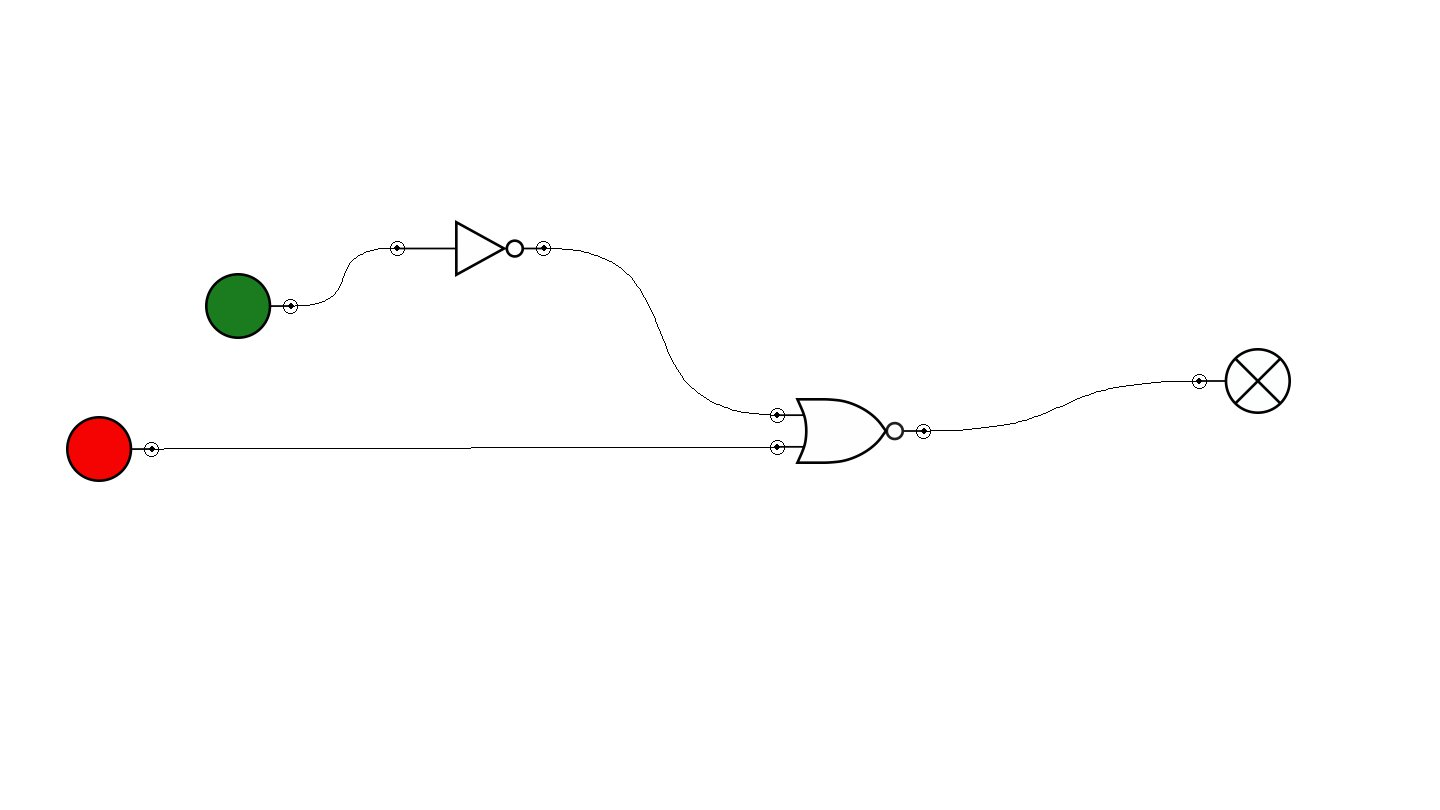bulb: (1192, 348, 1291, 414)
nor: (770, 398, 931, 464)
not: (390, 220, 551, 277)
switch_False: (66, 416, 159, 482)
switch_True: (205, 273, 298, 339)
